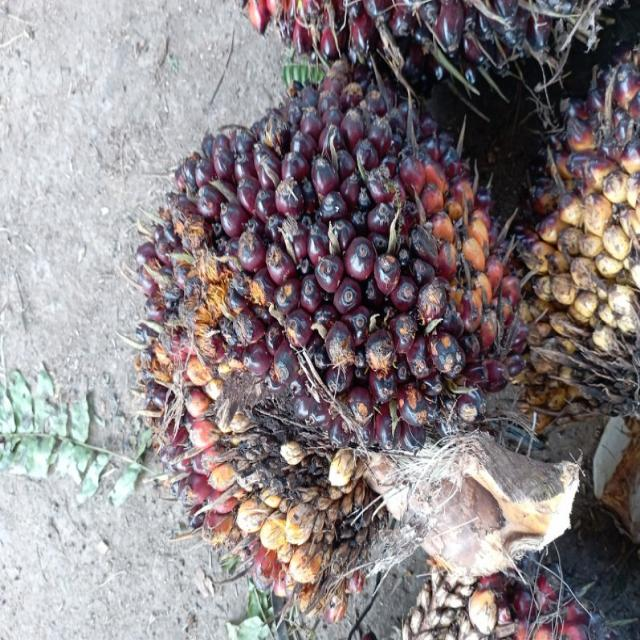fraksi 1: (138, 85, 526, 595)
